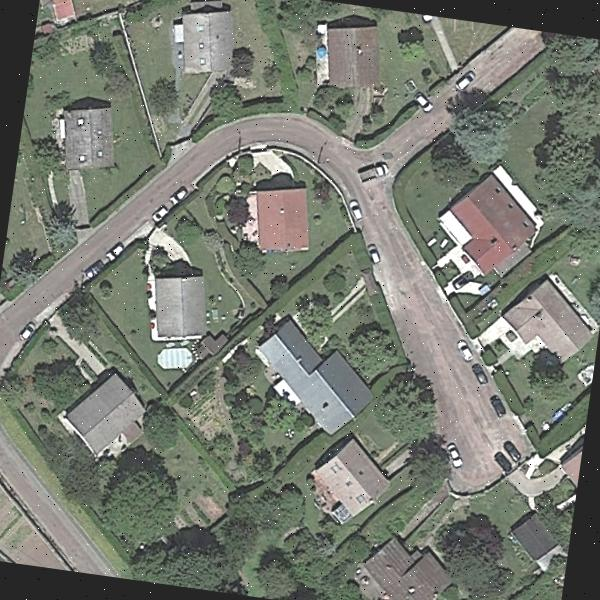Buildings: (254, 324, 374, 428), (434, 173, 537, 286), (140, 268, 218, 351), (248, 183, 326, 258), (320, 441, 386, 524), (64, 372, 138, 446), (166, 0, 238, 76), (507, 290, 590, 351), (371, 531, 441, 600), (54, 99, 120, 170), (318, 28, 384, 88), (557, 432, 584, 492), (516, 516, 554, 556), (36, 0, 83, 30)
